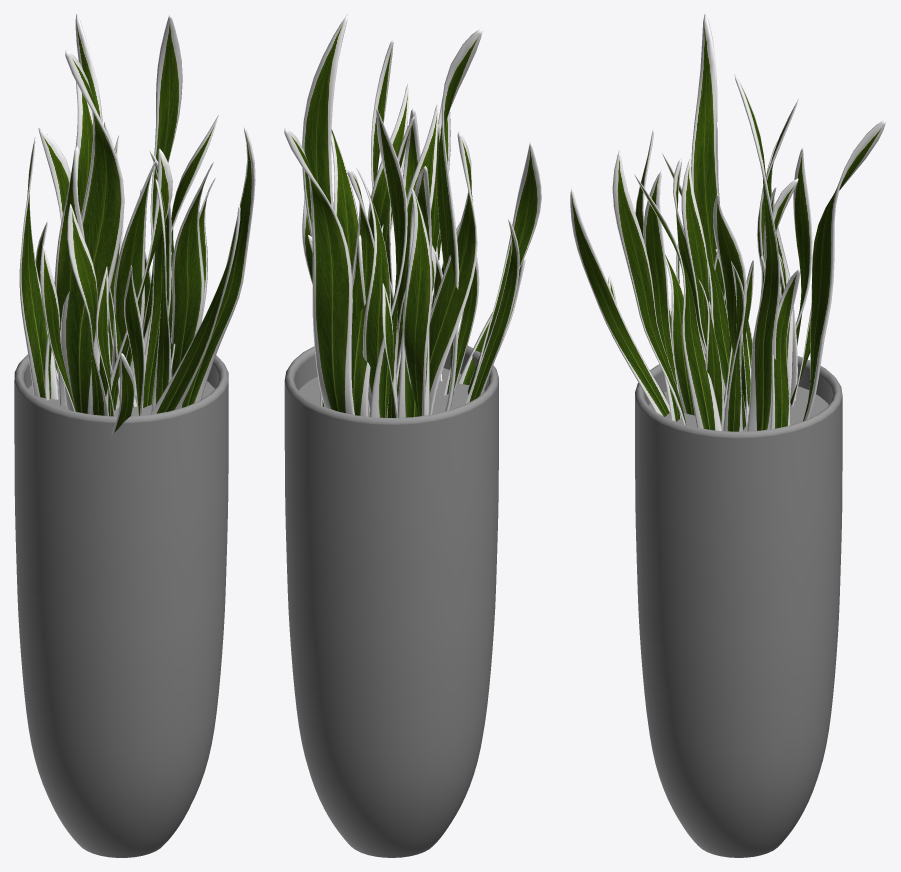
File: caydeban.fbx
3 views of the same model, side by side, from view 1: azimuth 30°, elevation 25°; view 2: azimuth 150°, elevation 25°; view 3: azimuth 270°, elevation 25° (orthographic). The views are drawn at different scales.
Visible parts, largest first — view 1: chaucay (×2); view 2: chaucay (×2); view 3: chaucay (×2).
Boxes of the visible parts, left/top/right/bottom form: chaucay (×2): left=14, top=14, right=255, bottom=857; chaucay (×2): left=284, top=14, right=541, bottom=857; chaucay (×2): left=570, top=14, right=886, bottom=857.
Bounding box in the file's own units: 81.23 × 322 × 117.
